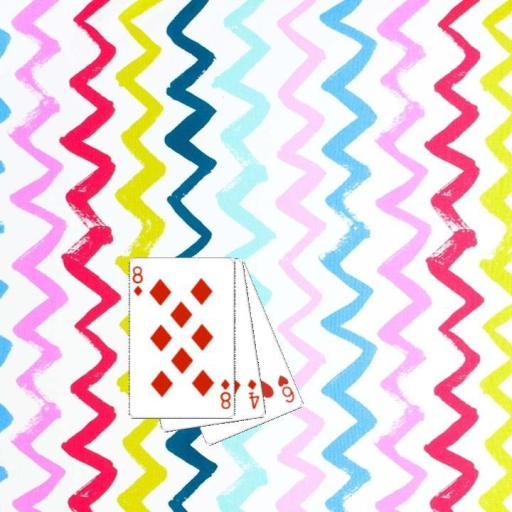4D: (245, 376, 261, 411)
6H: (275, 372, 297, 405)
8D: (217, 376, 232, 411), (130, 263, 145, 298)
